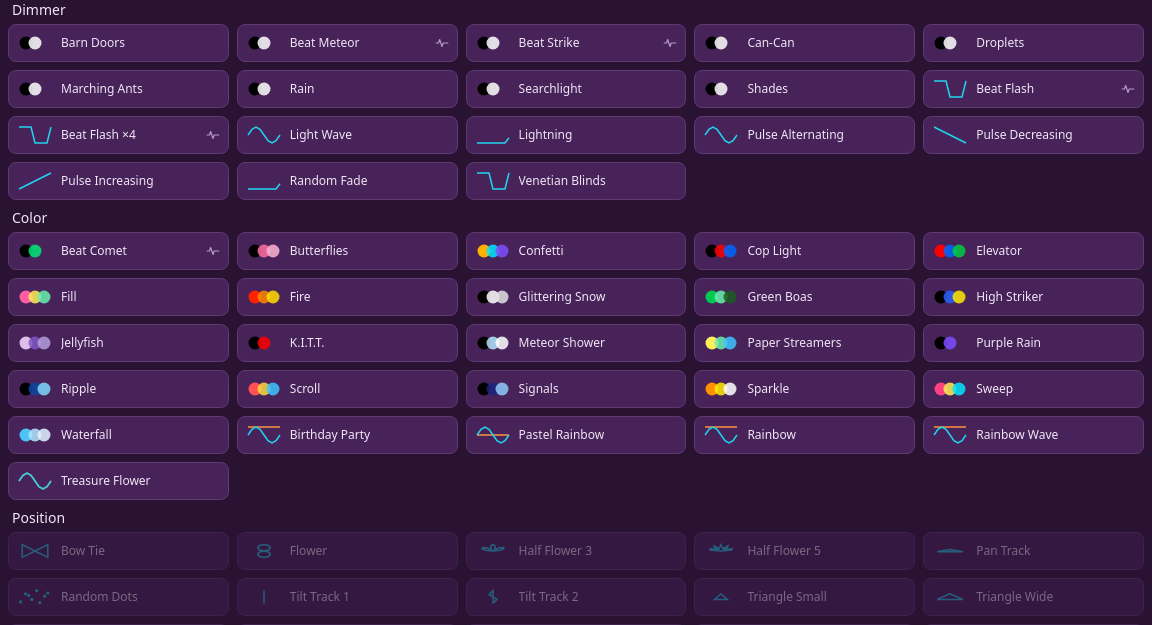
Test: effects chooser › offers Replace or Overlay when the property already has an effect
Later steps or results of the test are not shown.
(page scrolled)
Click the button with aria-label "Marching Ants template".
click(118, 89)  # box [8,70,229,108]
(page scrolled)
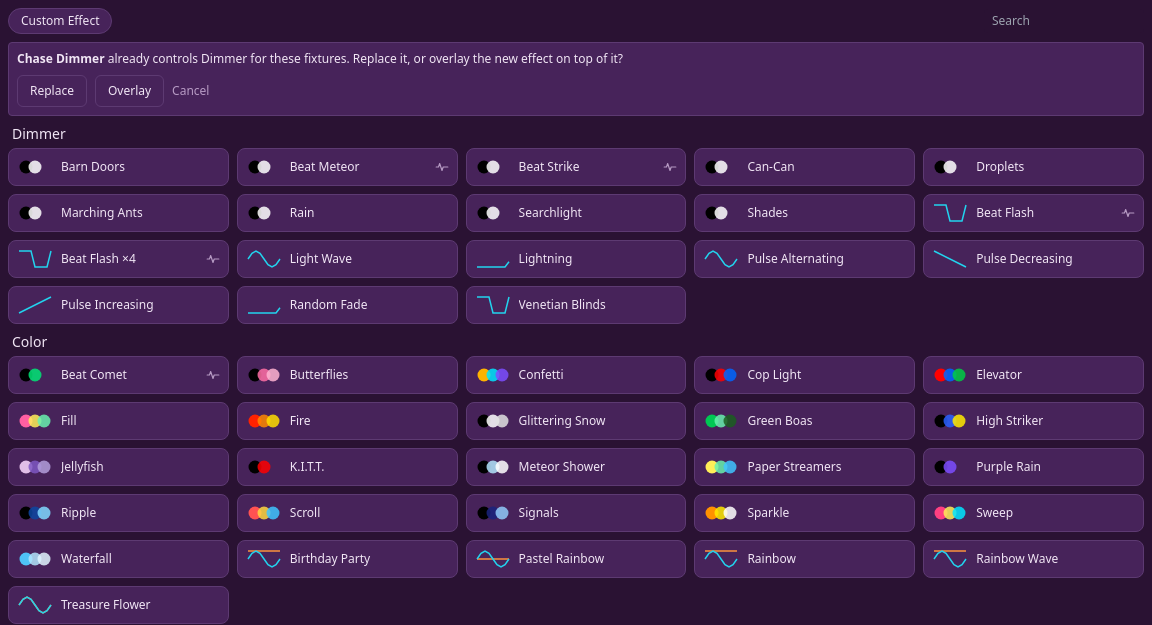
expect the text "already controls Dimmer" is shown: met, box [17,50,623,67]
